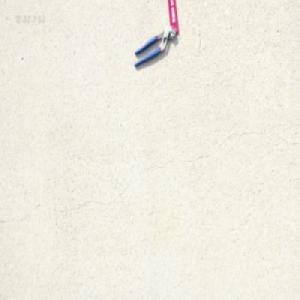Label: (167, 0, 180, 35)
Pliers: (133, 25, 175, 67)
